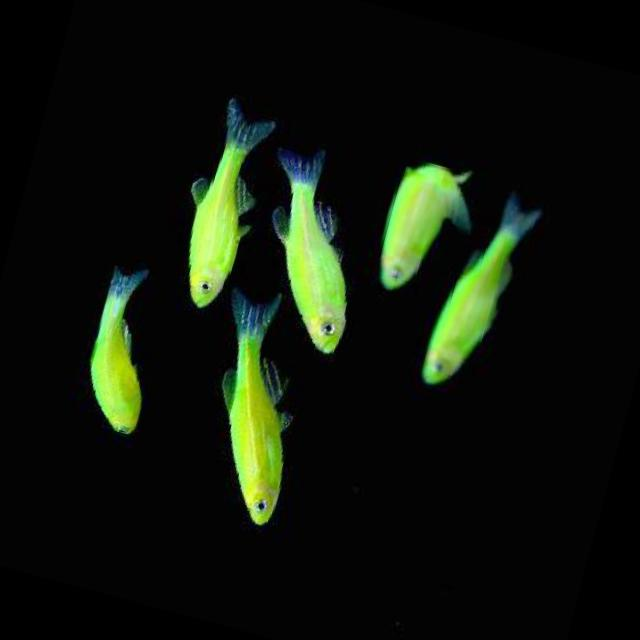ZebraFish: (175, 279, 329, 525), (226, 142, 384, 356), (157, 90, 280, 311)
